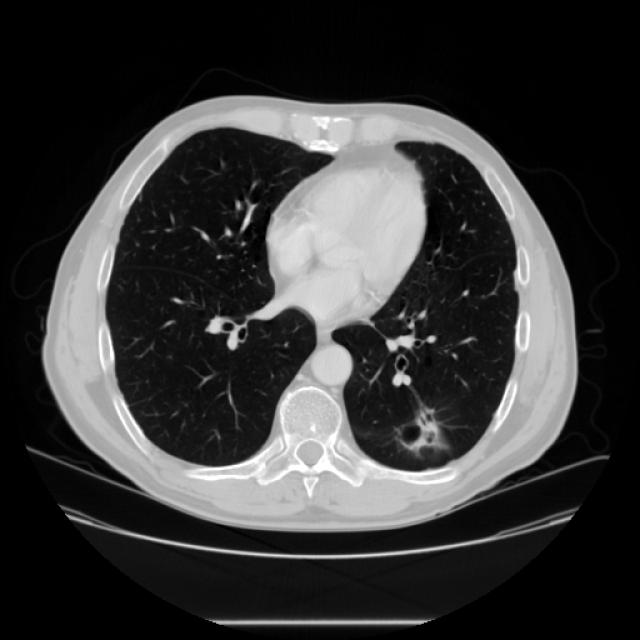nodule: (386, 398, 456, 468)
